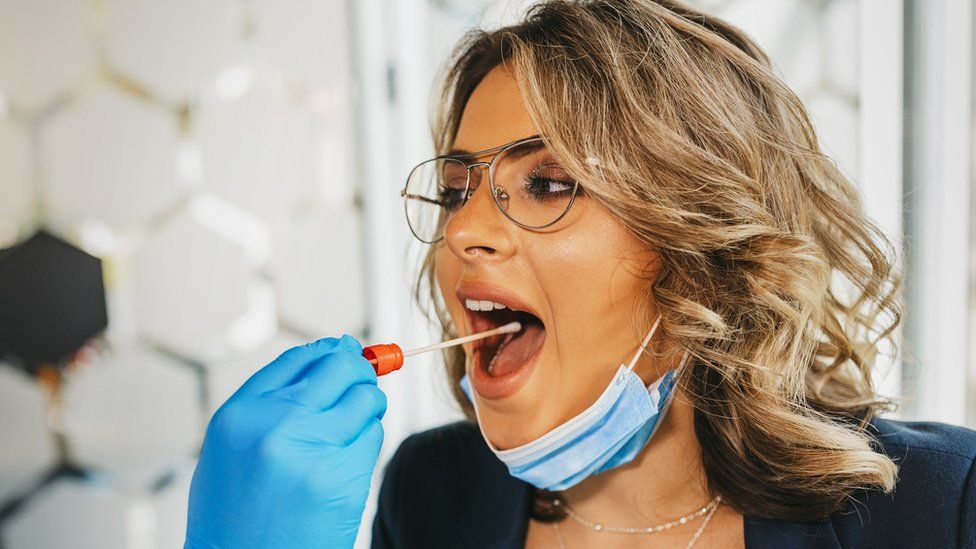Gloves: (177, 326, 394, 549)
mask_weared_incorrect: (425, 124, 672, 502)
